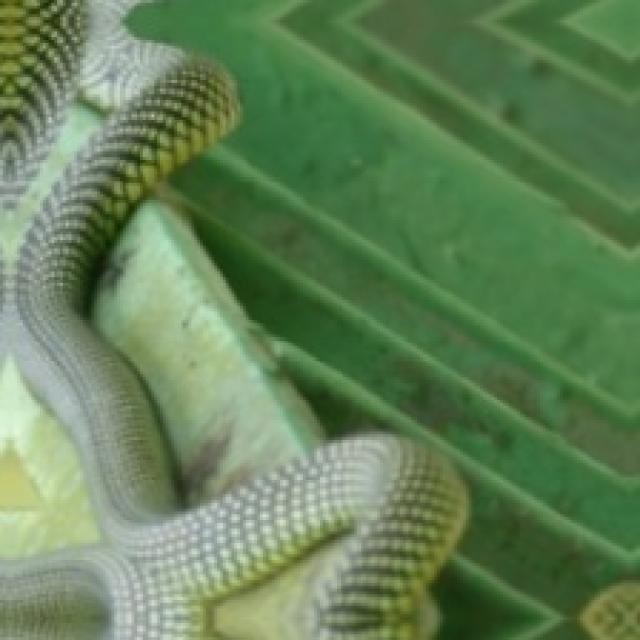paradise tree snake: (0, 57, 466, 637)
